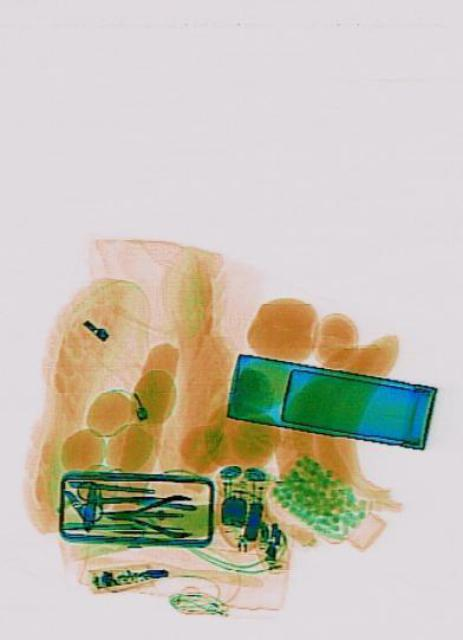Pliers: (102, 492, 190, 536)
Scissors: (76, 479, 149, 518)
